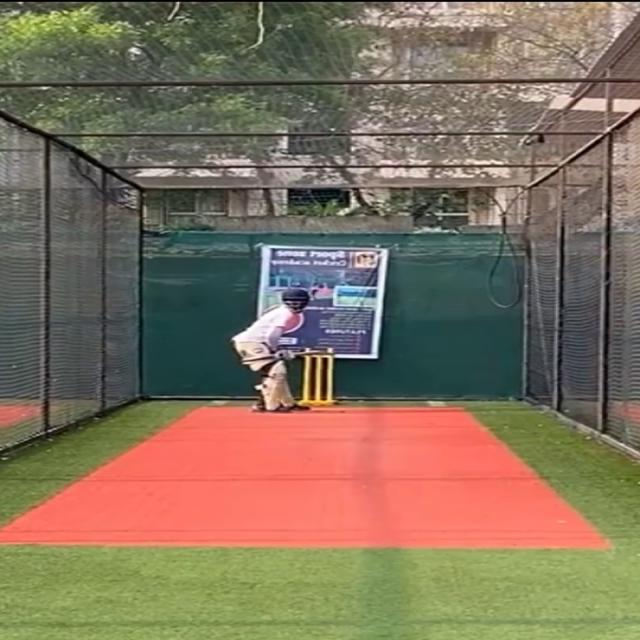stump: (298, 345, 336, 406)
